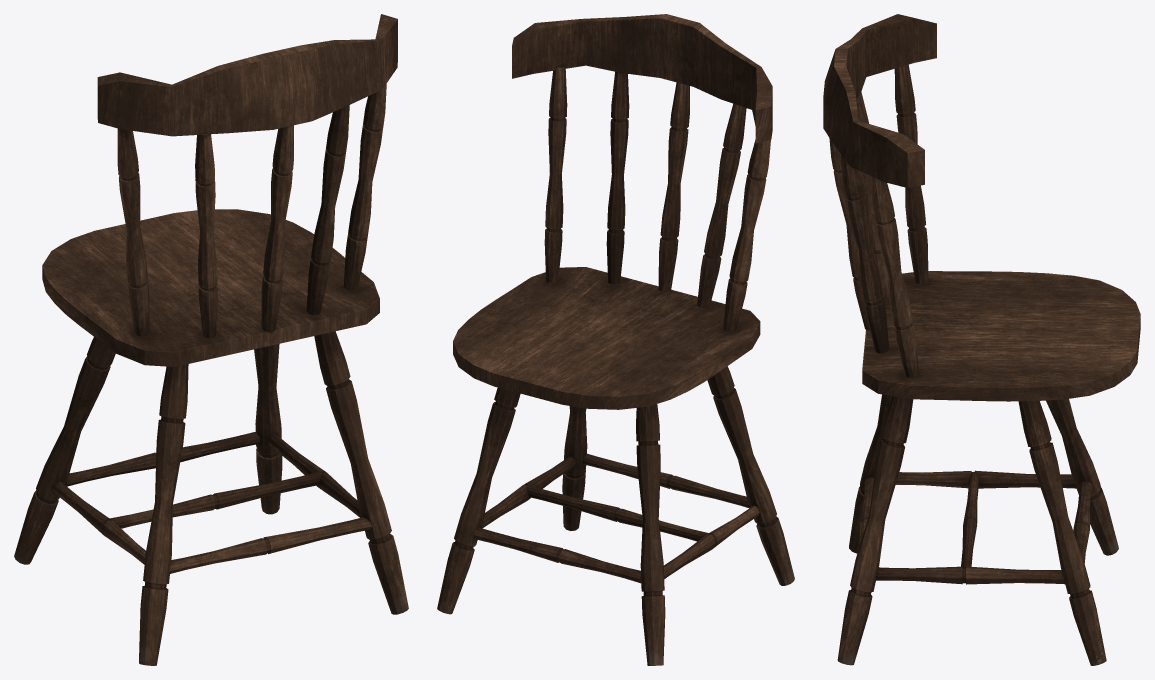
The model's file is chair.fbx.
The picture shows the model from 3 angles, left to right: view 1: azimuth 30°, elevation 25°; view 2: azimuth 150°, elevation 25°; view 3: azimuth 270°, elevation 25°; orthographic projection. The views are drawn at different scales.
Parts seen in each view (by area): view 1: polySurface249; view 2: polySurface249; view 3: polySurface249.
Boxes of the visible parts, x1,y1,x2,y2 form: polySurface249: (14, 14, 408, 665); polySurface249: (437, 14, 794, 665); polySurface249: (823, 14, 1140, 665).
Size of the model in its own units: 4.79 by 9.23 by 4.8.
1 material, 1 textured.
